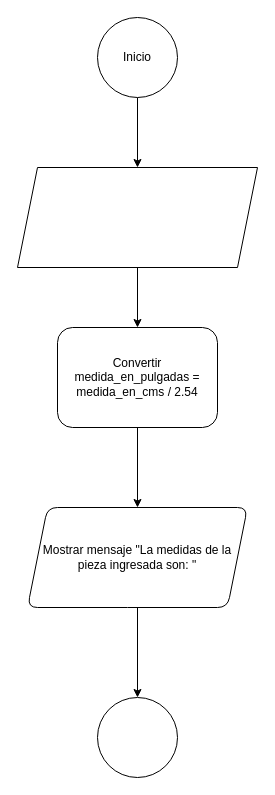
This 275x795 diagram has some shape labels left out. The shapes that lost their labels are listed below. From the top down, each one's centre as x and y in pixels, then its label:
point 137,217: Mostrar mensaje "Por favor ingrese las medidas del mueble (en cms)"
point 137,737: Fin
